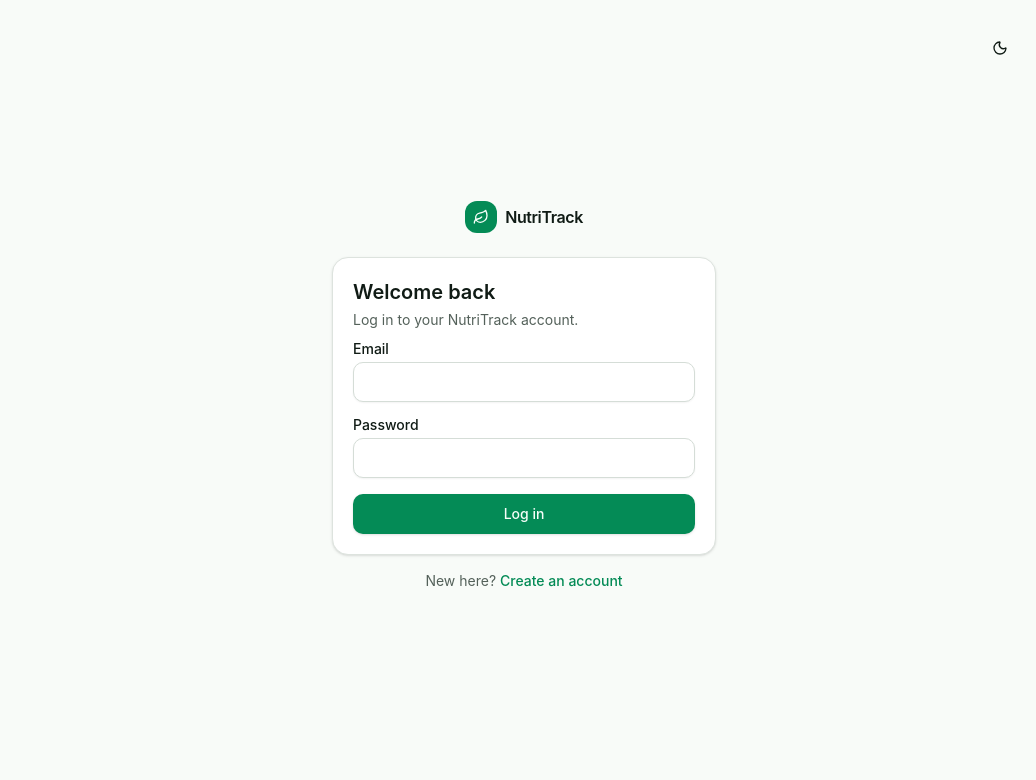
Test: LoginPage › goes to the dashboard after login
This screenshot has width=1036, height=780.
In the field labelled "Email": (524, 382) [353,362,695,402], type "hari@example.com"
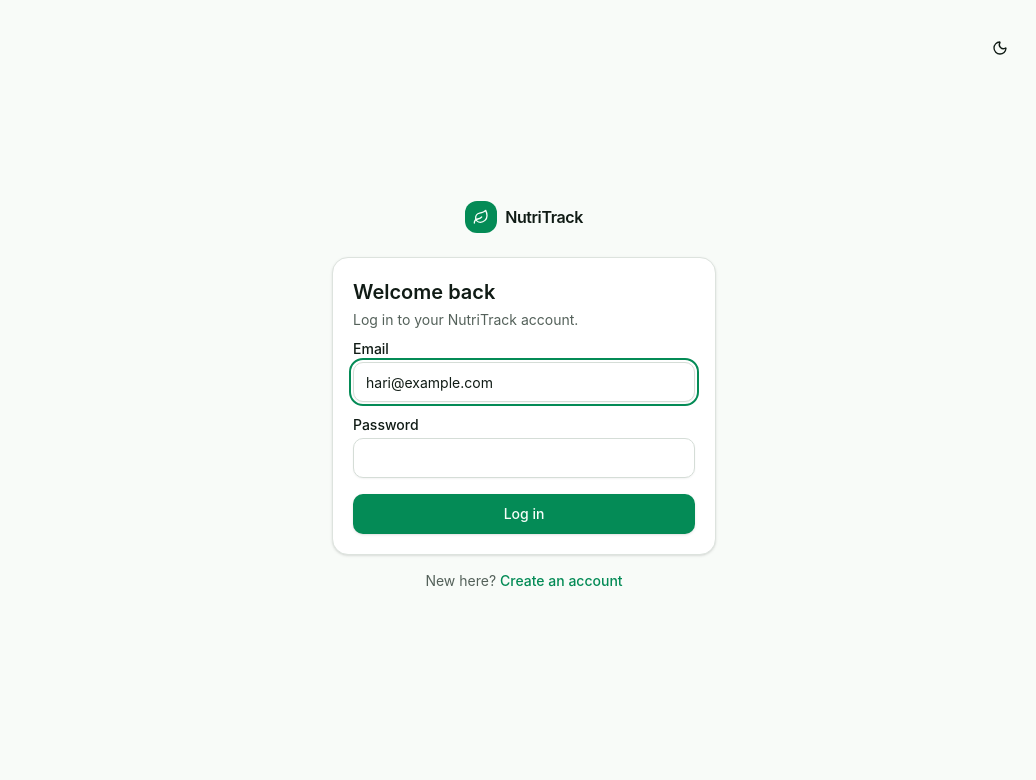
In the password field labelled "Password": (524, 458) [353,438,695,478], type "secret123"
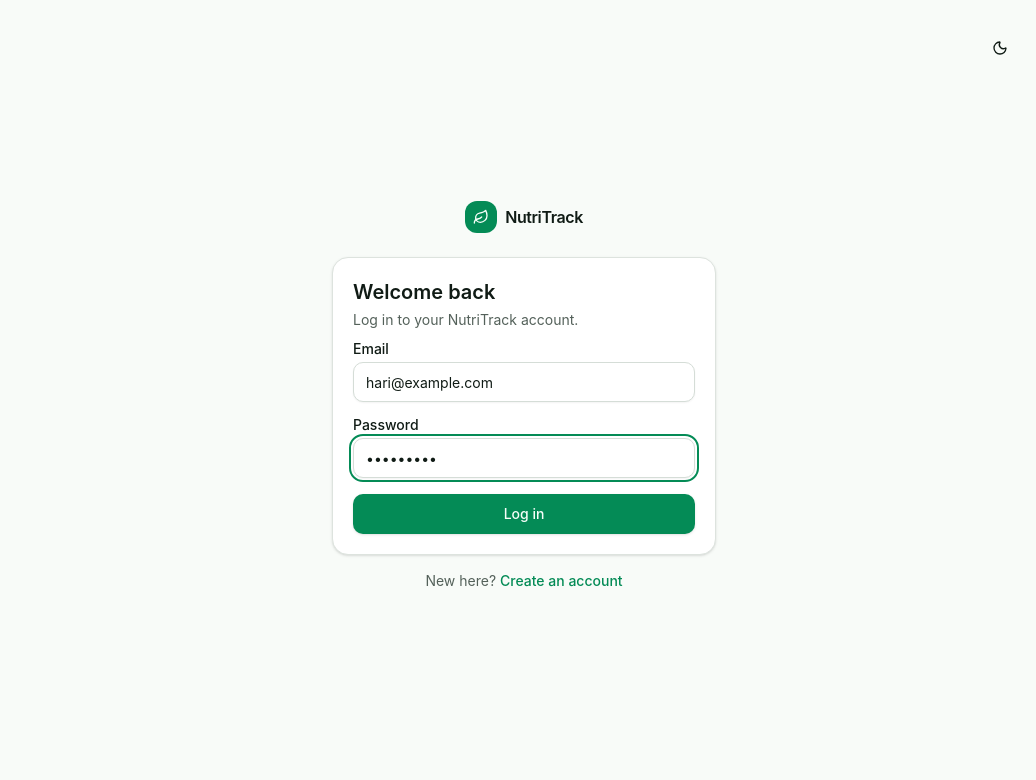
Click the button "Log in": click(524, 514) [353,494,695,534]
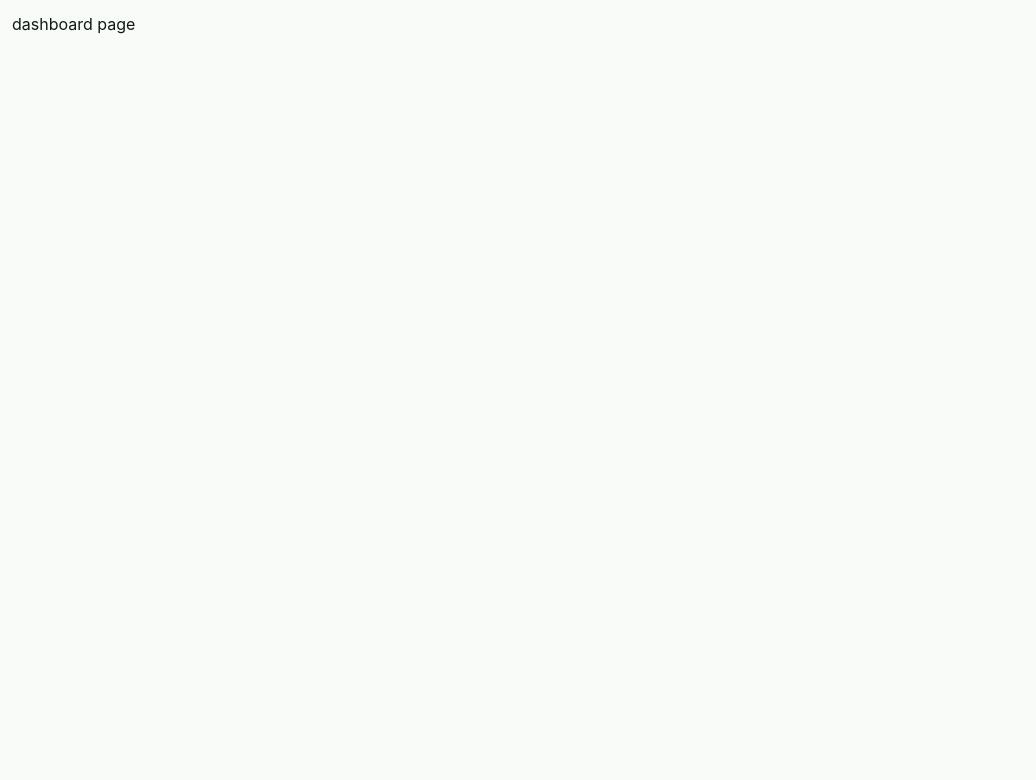
Expected: the text "dashboard page" is shown, [12,14,135,34]
